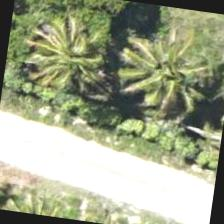Kelapa_Sawit: (115, 23, 217, 125), (19, 4, 120, 106)
